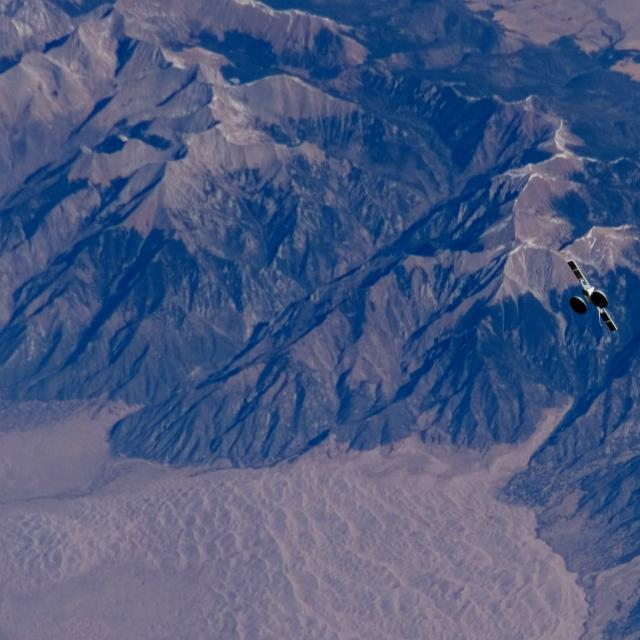satellite: (558, 256, 624, 340)
